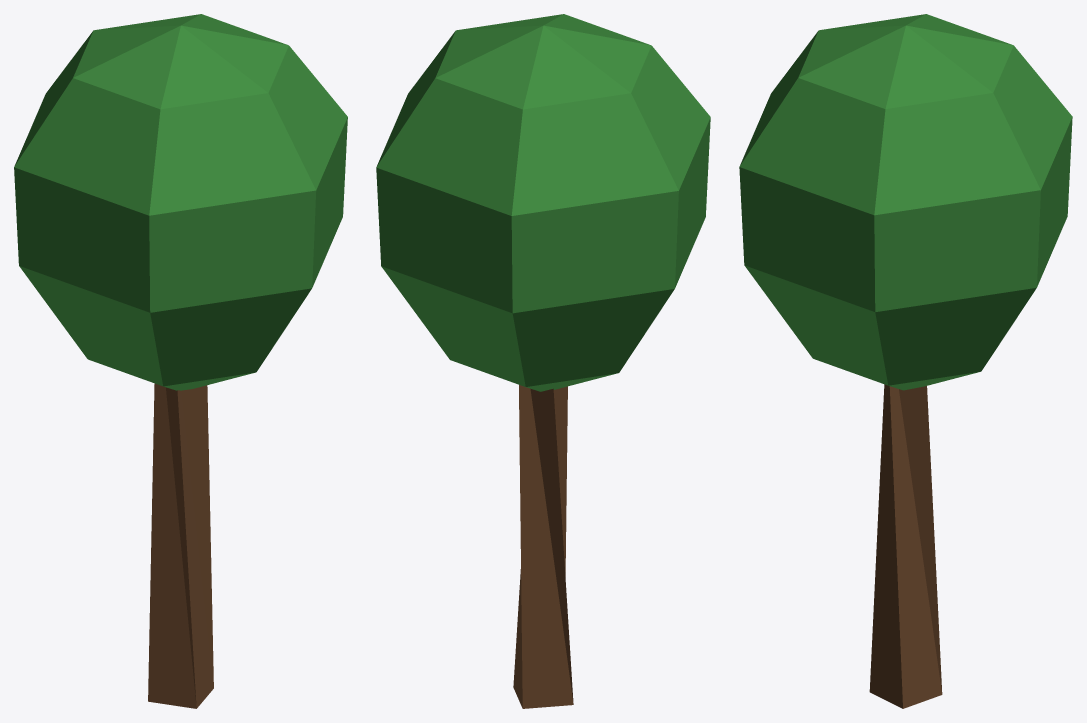
The model's file is classic_lite_lowpoly.obj.
The picture shows the model from 3 angles, left to right: view 1: azimuth 30°, elevation 25°; view 2: azimuth 150°, elevation 25°; view 3: azimuth 270°, elevation 25°; orthographic projection.
Parts seen in each view (by area): view 1: canopy, trunk; view 2: canopy, trunk; view 3: canopy, trunk.
Boxes of the visible parts, x1,y1,x2,y2 form: canopy: (14, 14, 347, 390); trunk: (148, 383, 213, 708); canopy: (376, 14, 710, 391); trunk: (513, 385, 573, 708); canopy: (739, 14, 1072, 390); trunk: (869, 384, 942, 708).
Bounding box in the file's own units: 1.34 × 2.83 × 1.28.
